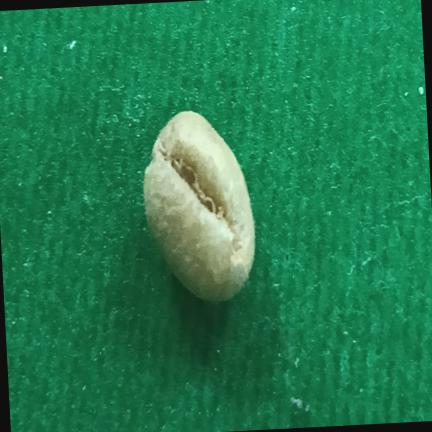cut: (144, 111, 255, 301)
